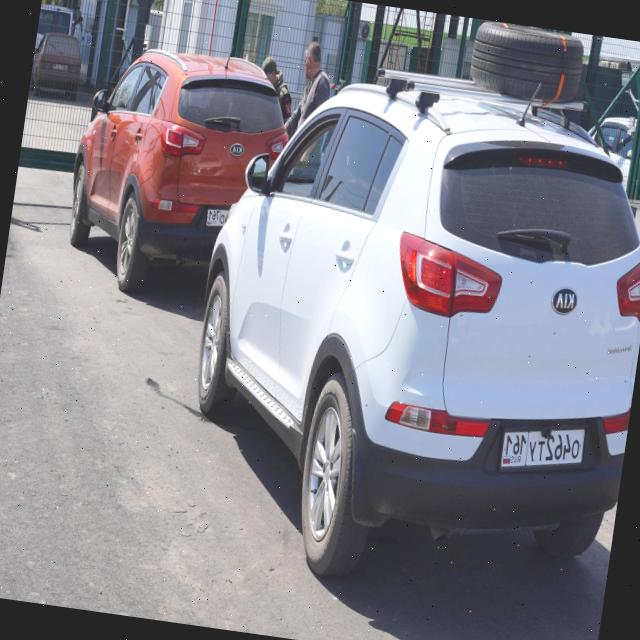number-plates: (498, 418, 588, 484), (203, 206, 230, 232)
